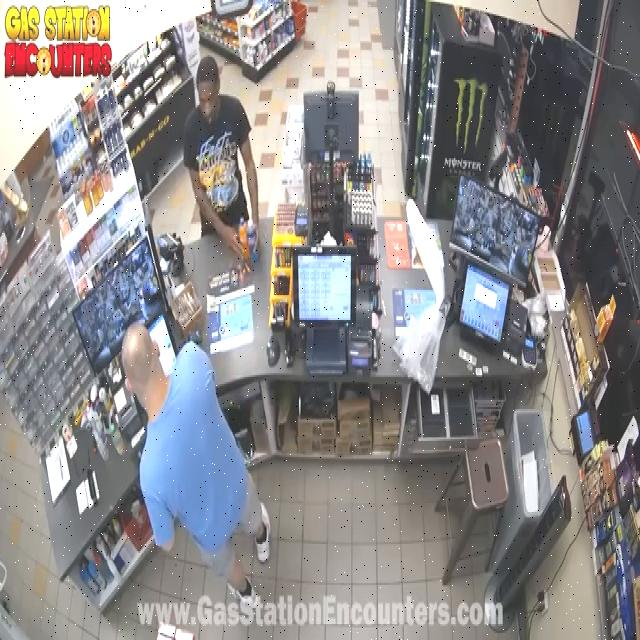article: (247, 219, 257, 261), (238, 219, 247, 260)
hands: (211, 213, 243, 260), (241, 142, 257, 224)
